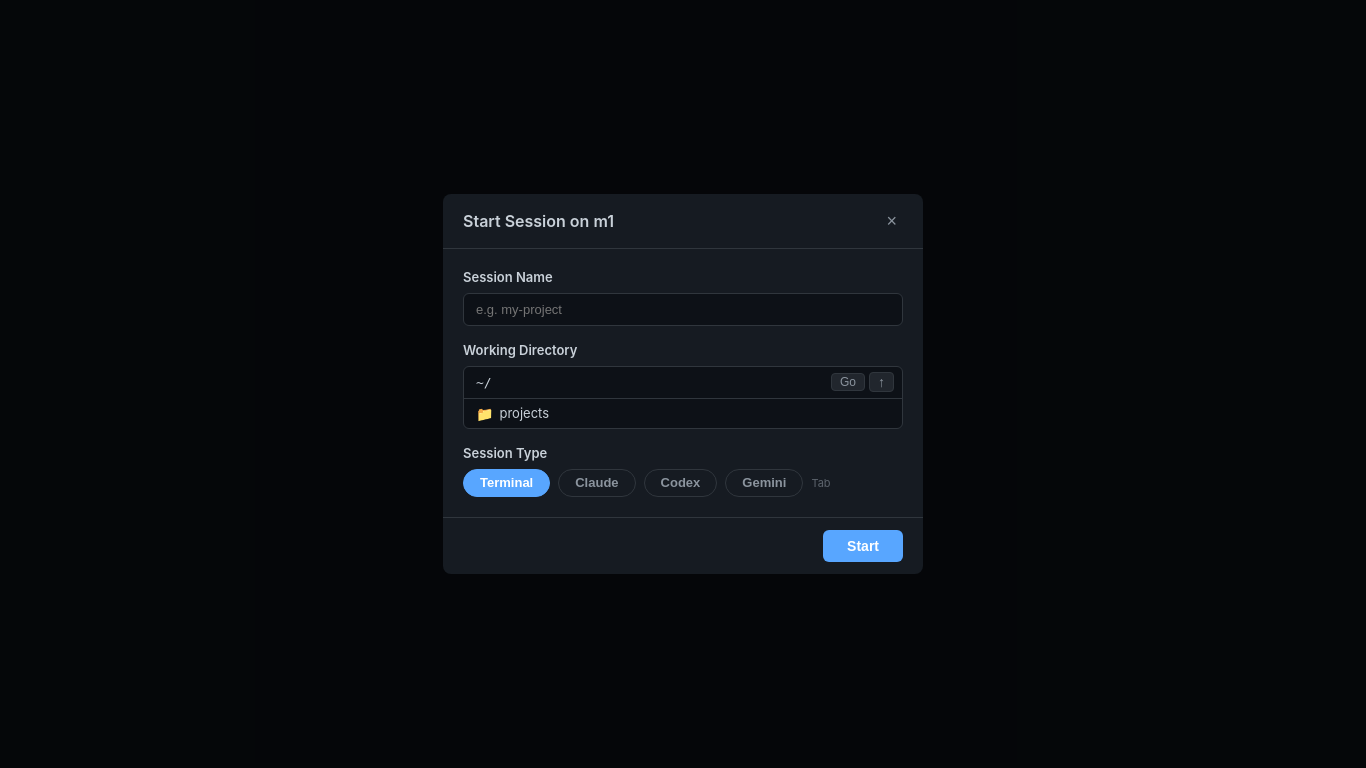
Test: StartSessionModal › navigates into a folder on click
Click the text "projects" at (524, 413), box top-left (500, 405), bottom-right (549, 421)
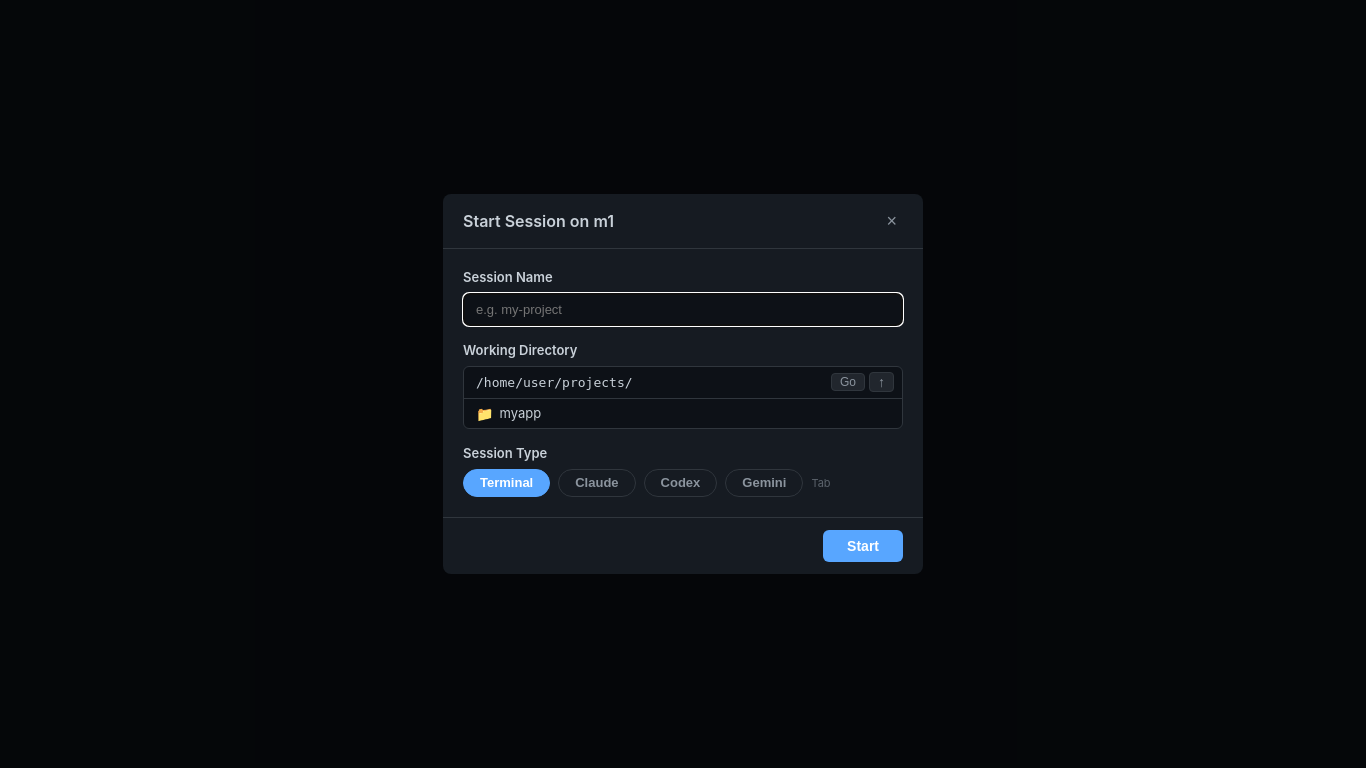
Expected: the text "myapp" is shown, top-left (500, 405), bottom-right (541, 421)
